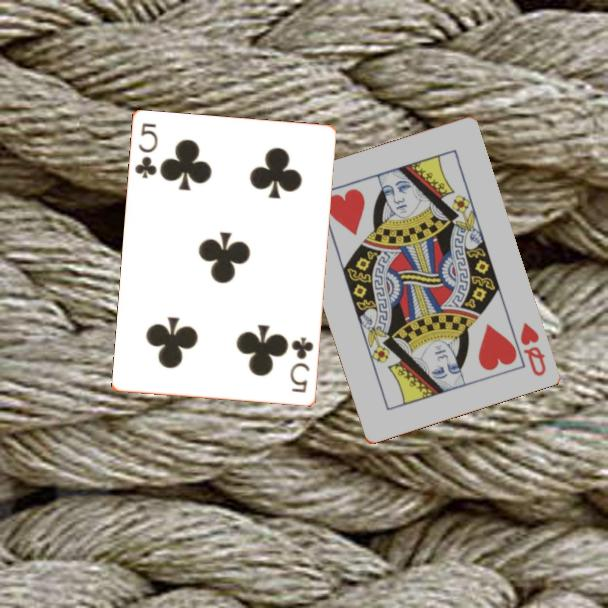c05: (287, 334, 317, 396), (131, 120, 161, 181)
h12: (516, 319, 548, 379)
